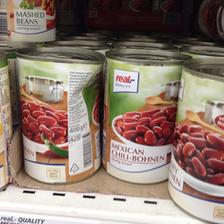Bohnen: (12, 46, 102, 187), (104, 48, 176, 188), (173, 58, 223, 222)
